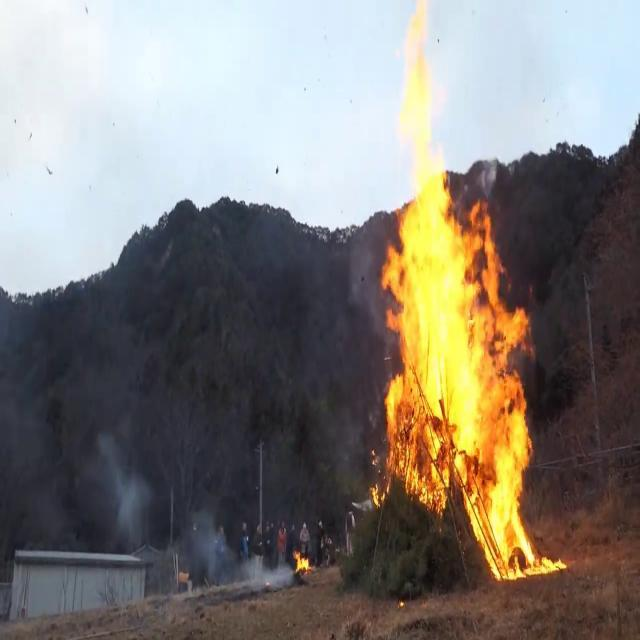Fire: (362, 11, 544, 588), (290, 544, 314, 576)
Smoke: (107, 464, 260, 596)
